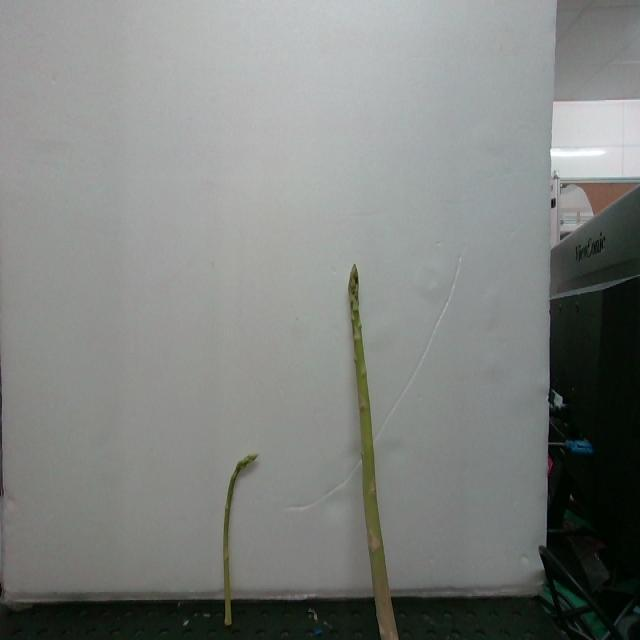aspargus: (348, 266, 400, 640), (222, 455, 259, 629)
